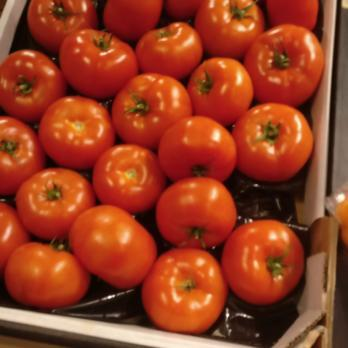Tomato: (22, 0, 317, 181), (0, 158, 227, 318), (229, 218, 305, 303)
